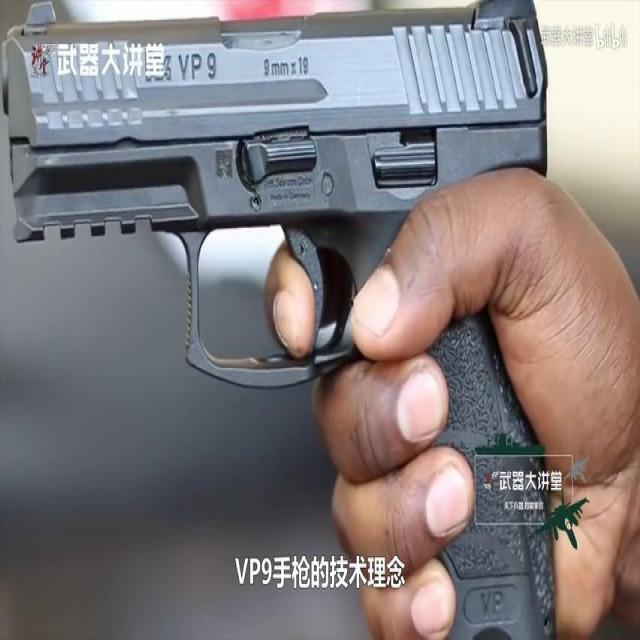Handgun: (9, 0, 596, 617)
